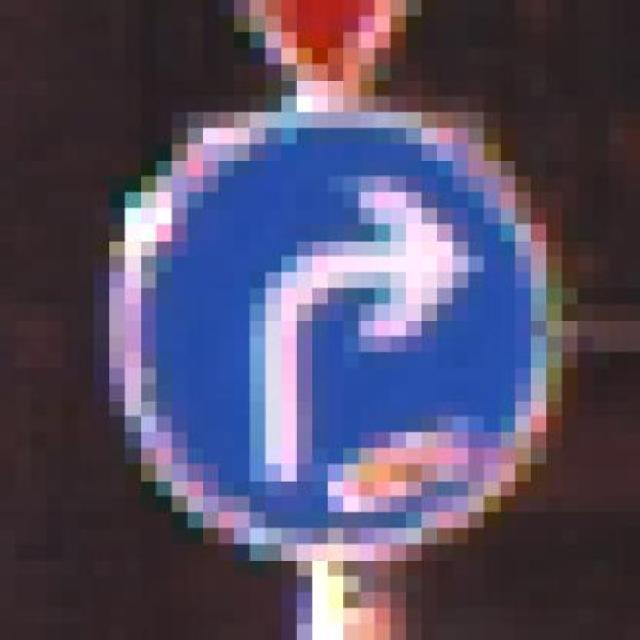Turn right ahead: (78, 95, 593, 560)
